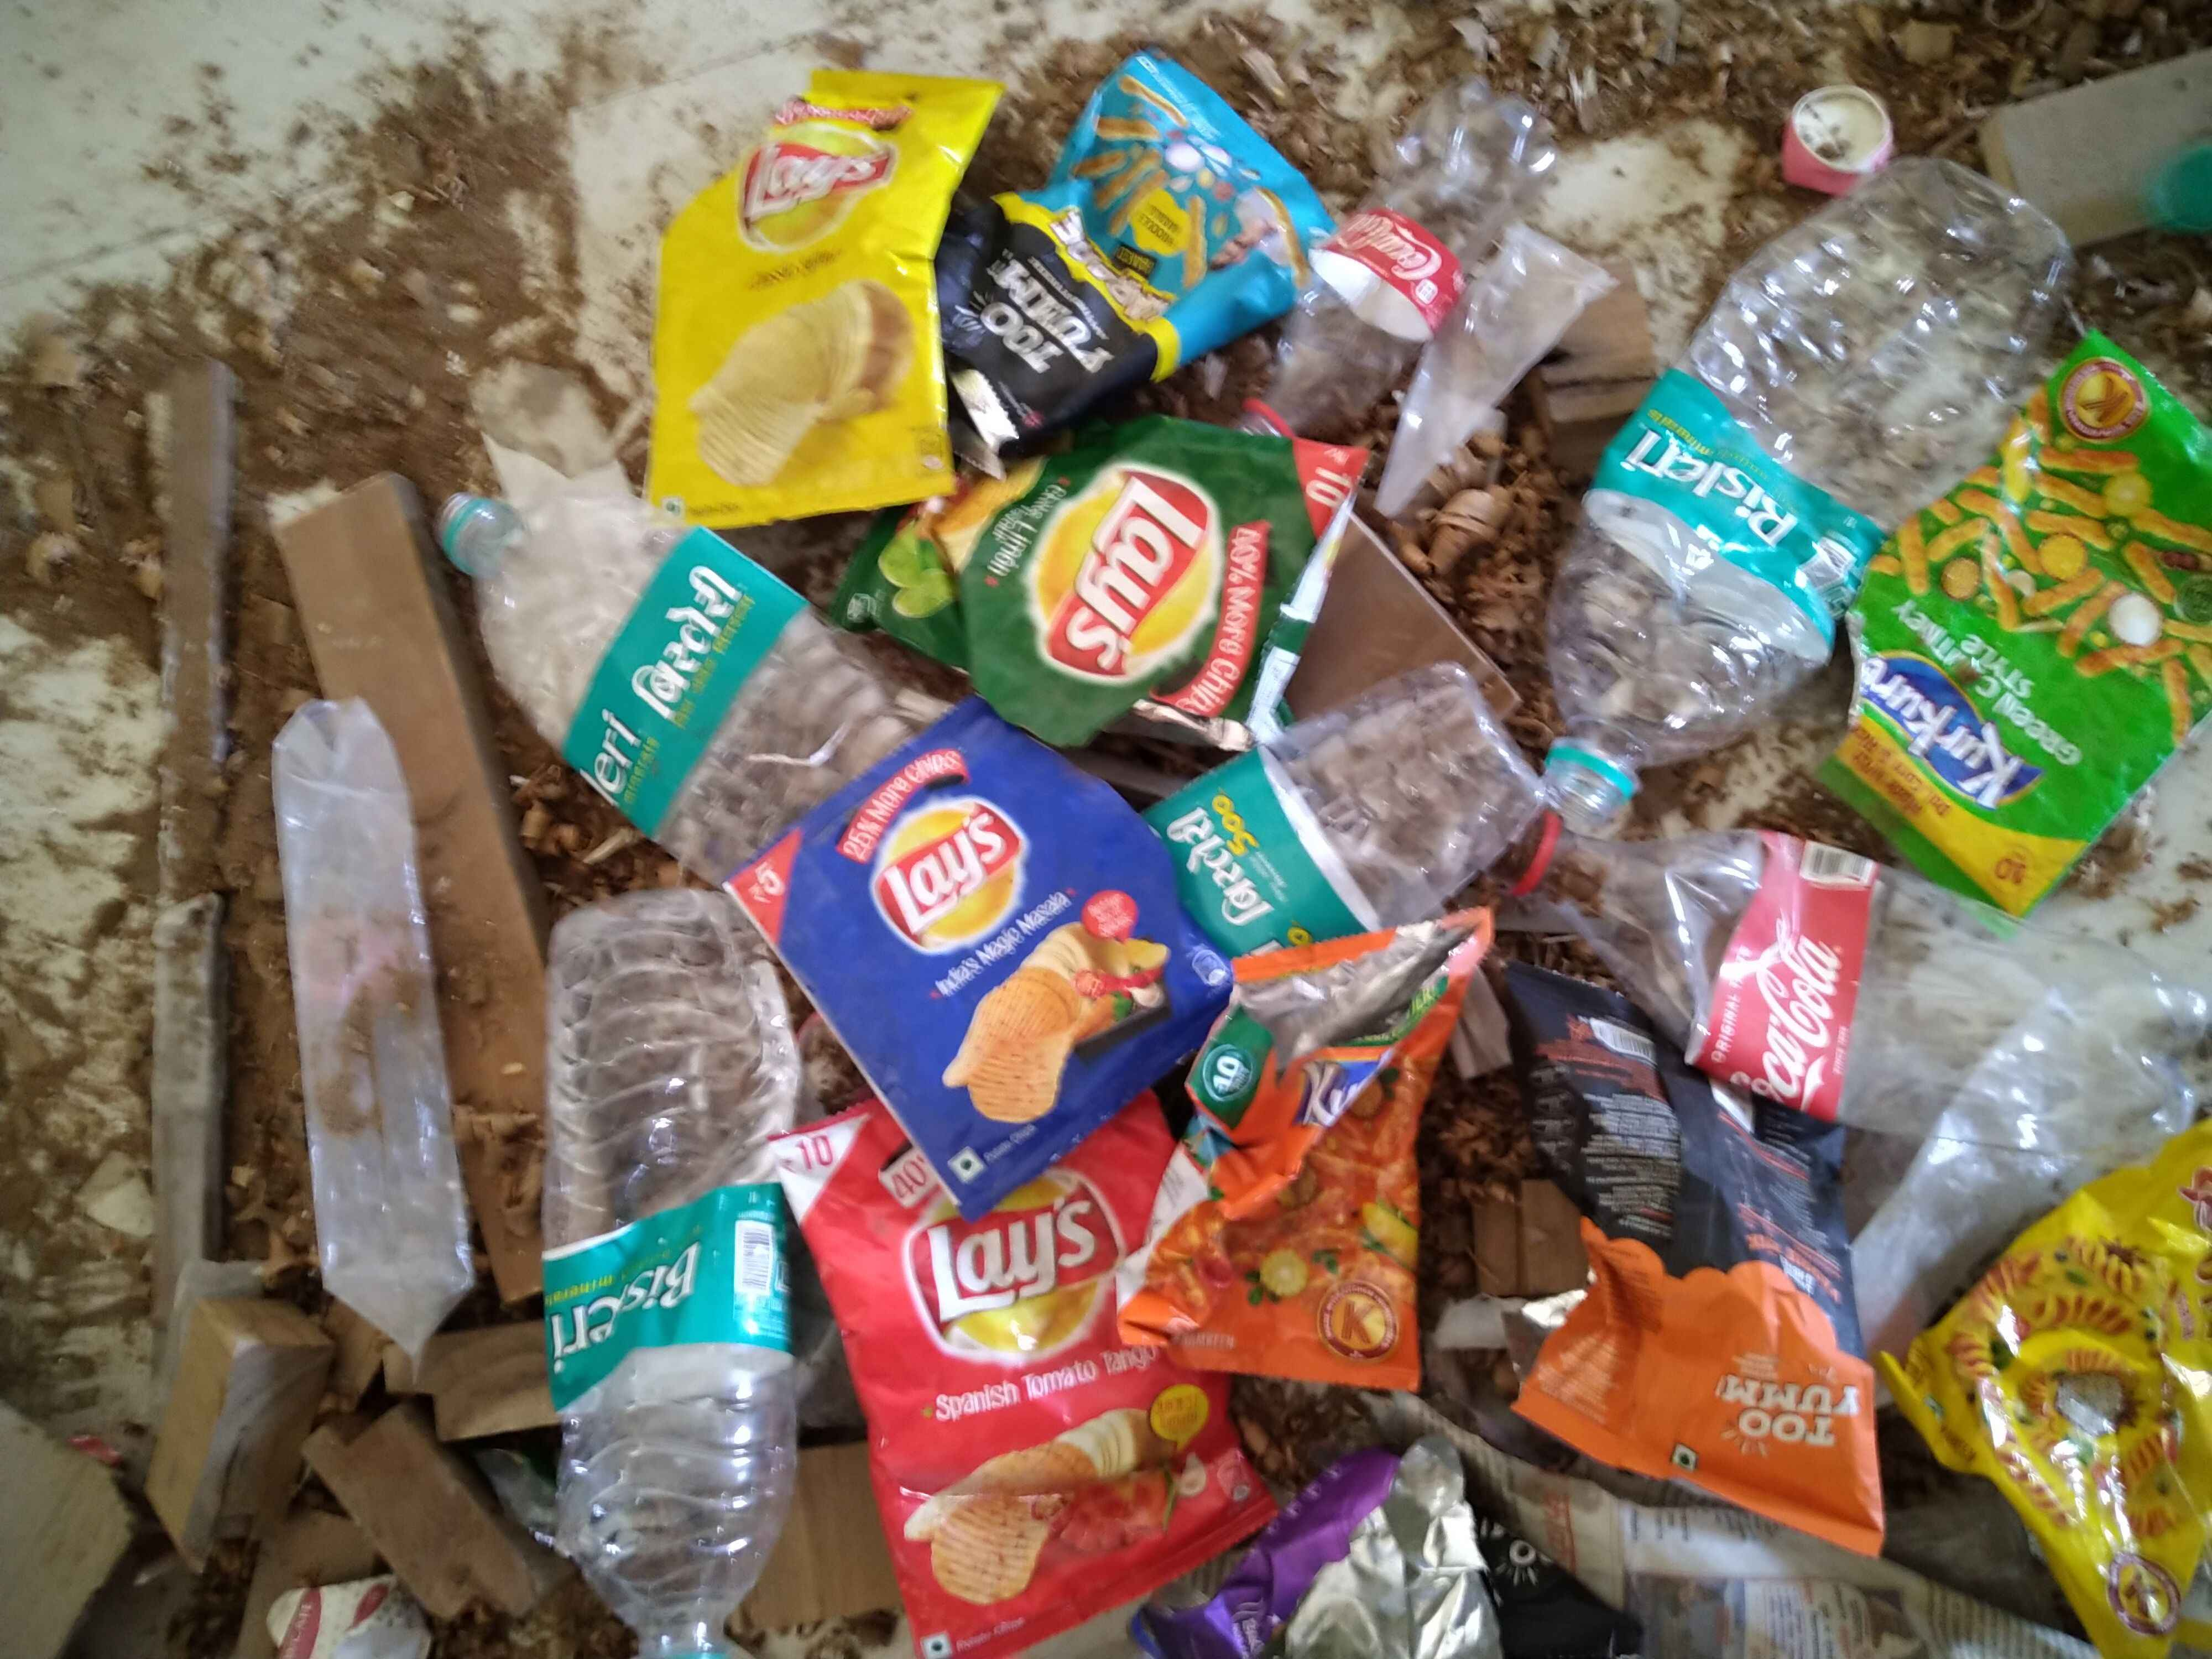Bisleri: (1618, 418, 1850, 596), (573, 561, 744, 798), (545, 1237, 801, 1345), (1170, 770, 1320, 943)
Coca-Cola: (1731, 896, 1850, 1129)
Lays: (1012, 451, 1247, 690), (904, 1152, 1139, 1391), (862, 777, 1040, 992), (733, 101, 904, 275)
kurkure: (1860, 612, 2090, 859), (1282, 1047, 1426, 1157)
tooyumm: (953, 249, 1136, 385), (1703, 1356, 1874, 1480), (1474, 1513, 1578, 1595)
